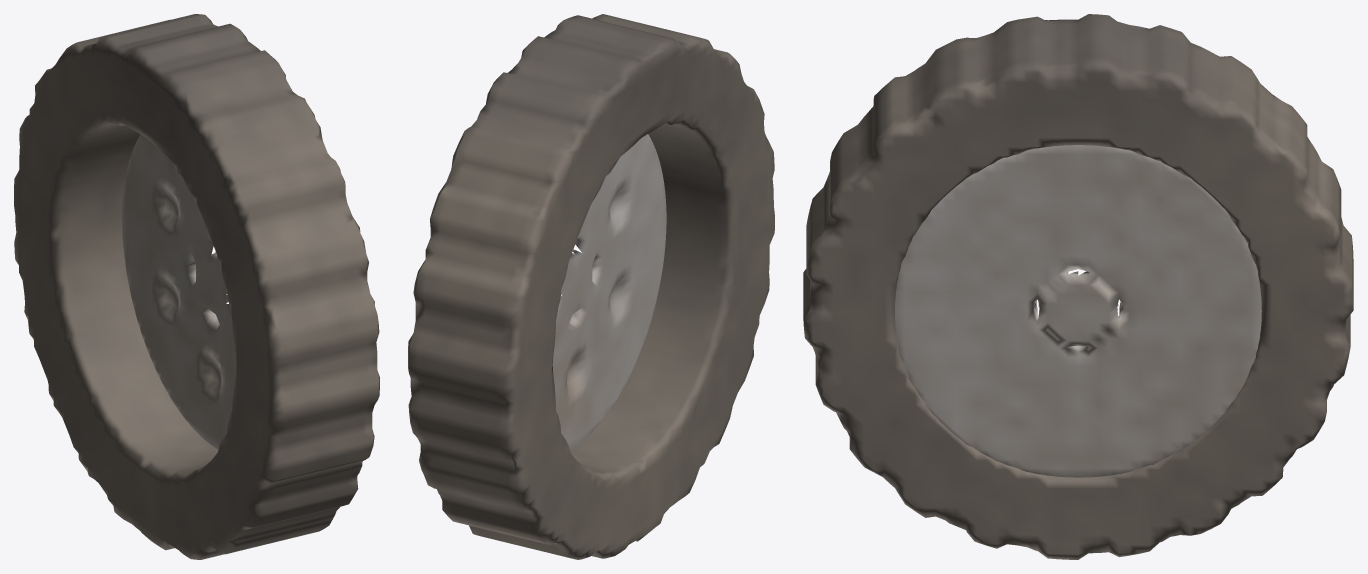
Rendered from car_wheel.glb.
3 views of the same model, side by side, from view 1: azimuth 30°, elevation 25°; view 2: azimuth 150°, elevation 25°; view 3: azimuth 270°, elevation 25° (orthographic). The views are drawn at different scales.
Bounding box in the file's own units: 0.1515 × 0.6478 × 0.6478.
